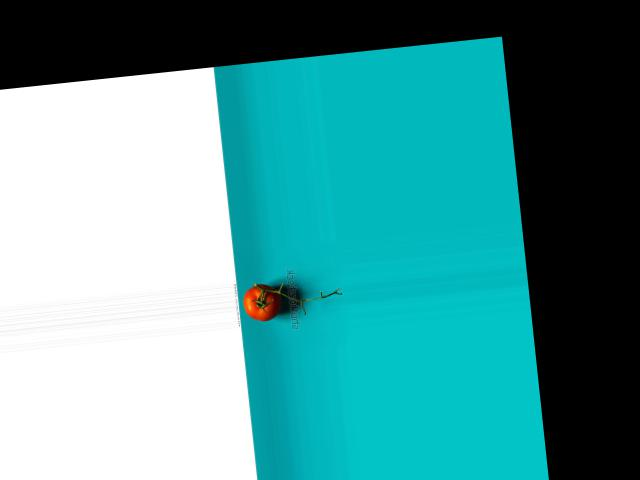tomato: (242, 281, 282, 322)
